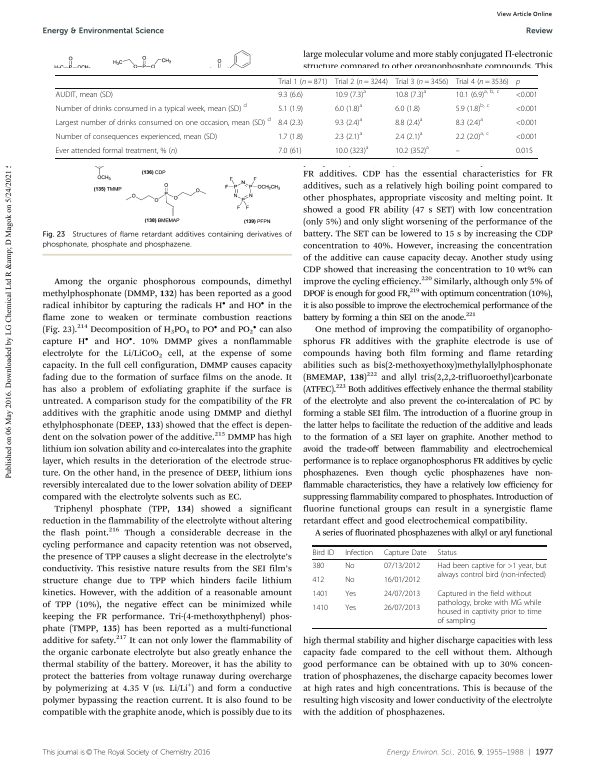borderless: (54, 73, 538, 158), (312, 544, 547, 628)
cell: (436, 589, 542, 626), (55, 116, 272, 128), (55, 102, 248, 114), (436, 561, 547, 580), (55, 132, 218, 142), (55, 146, 178, 156), (55, 90, 114, 100), (455, 88, 500, 100), (334, 77, 389, 86), (394, 77, 449, 86), (455, 77, 510, 86), (277, 77, 328, 86), (394, 144, 430, 156), (455, 102, 490, 114), (455, 130, 490, 142), (334, 144, 369, 156), (383, 548, 427, 557), (334, 88, 367, 100), (394, 88, 427, 100), (383, 561, 421, 571), (383, 575, 421, 585), (383, 589, 421, 599), (383, 603, 421, 613), (334, 102, 363, 114), (334, 116, 363, 128), (394, 116, 423, 128), (455, 116, 484, 128), (334, 130, 363, 142), (394, 130, 423, 142), (344, 548, 374, 557), (277, 90, 304, 100), (277, 104, 304, 114), (394, 104, 421, 114), (277, 118, 304, 128), (277, 132, 304, 142), (277, 146, 302, 156), (515, 90, 538, 100), (515, 104, 538, 114), (515, 118, 538, 128), (515, 132, 538, 142), (312, 548, 335, 557), (436, 548, 458, 557), (515, 146, 534, 156), (312, 589, 329, 599), (312, 603, 329, 613), (312, 561, 325, 571), (312, 575, 325, 585), (344, 589, 357, 599), (344, 603, 357, 613), (344, 561, 355, 571), (344, 575, 355, 585), (515, 79, 521, 86), (455, 150, 461, 154)
